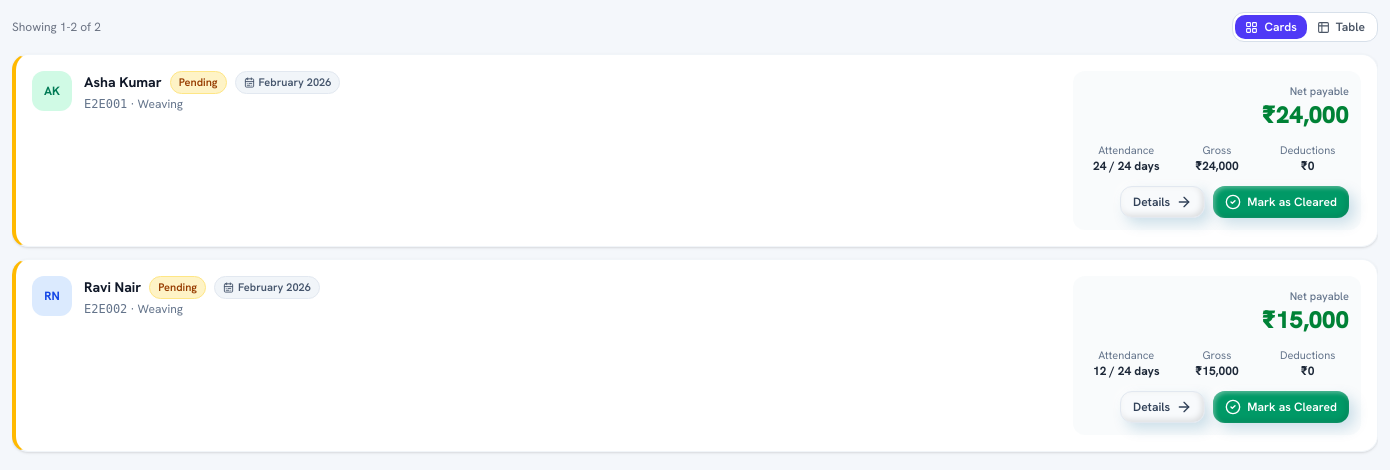
Scenario: TDS in the register › has no TDS column while no row has TDS
Click the button "Table": (1341, 27) [1307,15,1375,39]
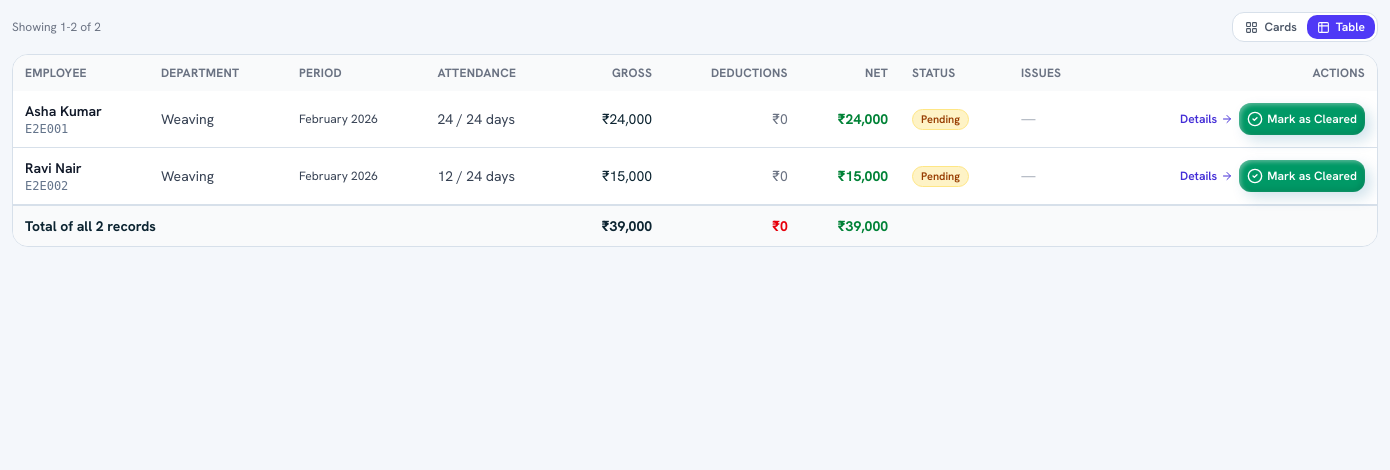
Expected: the number of column headings is 10
